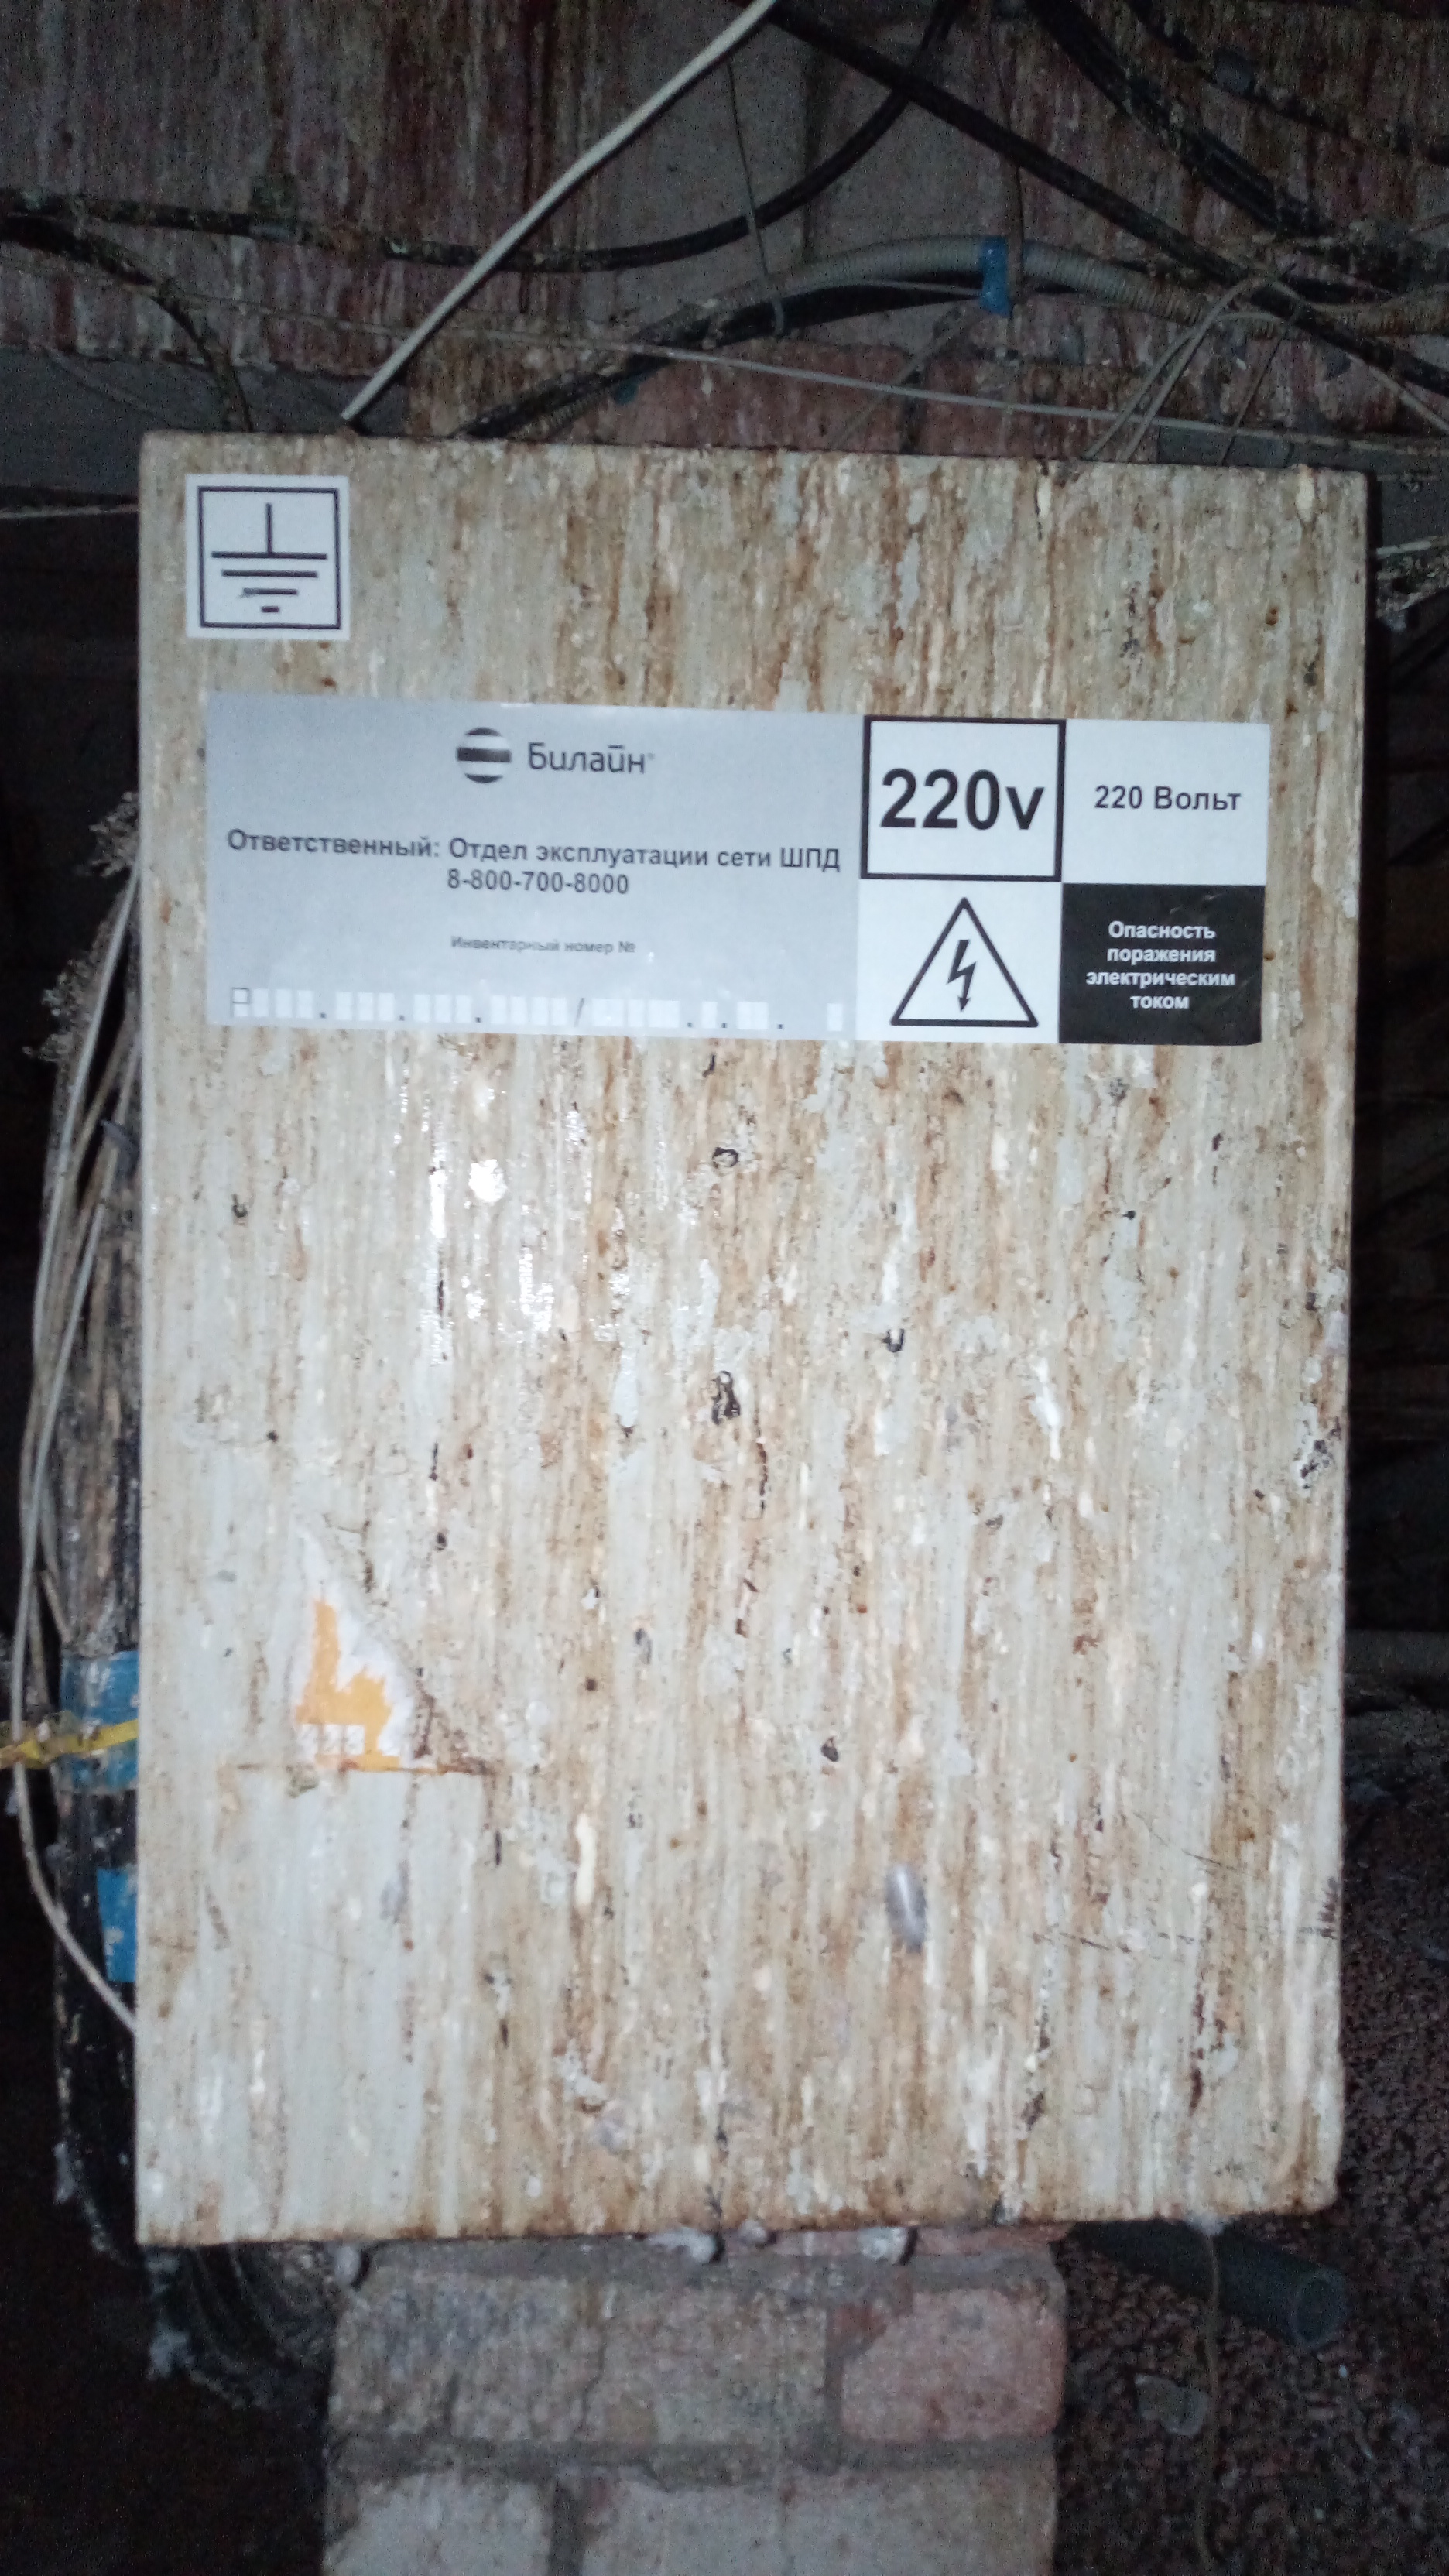sv-5: (117, 421, 1394, 2266)
